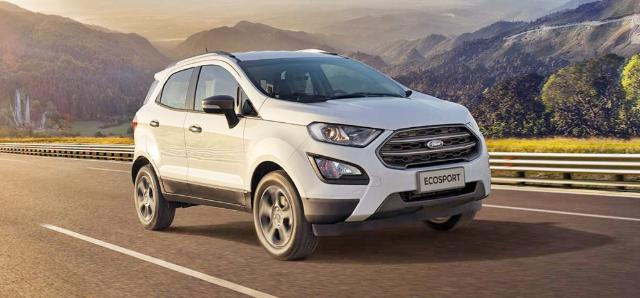ford: (131, 48, 491, 262)
